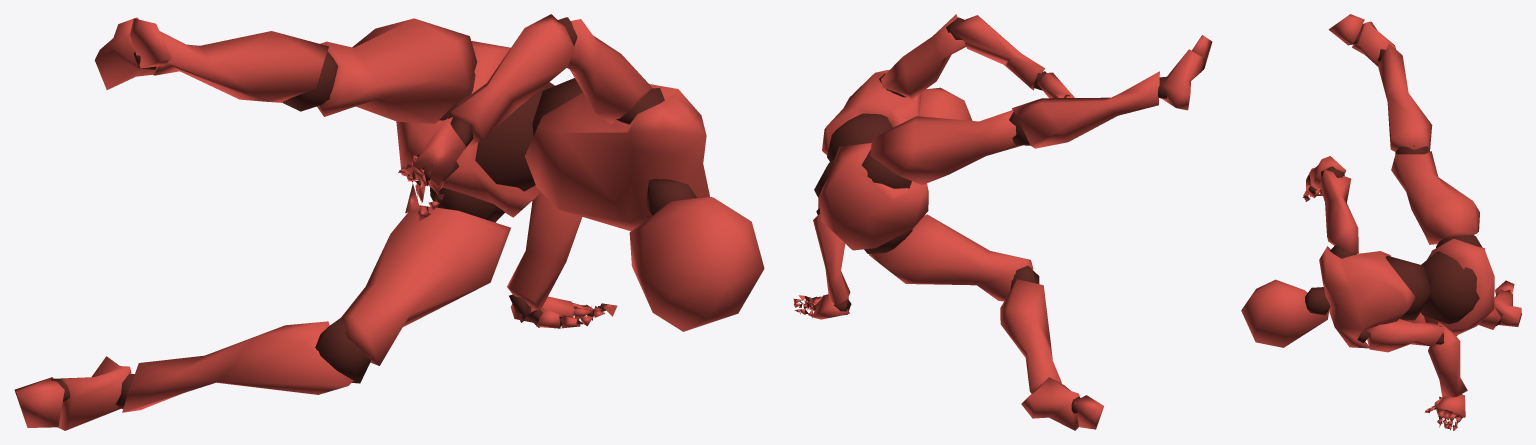
The picture shows the model from 3 angles, left to right: view 1: azimuth 30°, elevation 25°; view 2: azimuth 150°, elevation 25°; view 3: azimuth 270°, elevation 25°; orthographic projection. The views are drawn at different scales.
Visible parts, largest first — view 1: Beta_Surface; view 2: Beta_Surface; view 3: Beta_Surface.
Part boxes in pixels (left/top/right/bottom): Beta_Surface: left=14, top=14, right=764, bottom=430; Beta_Surface: left=793, top=14, right=1212, bottom=430; Beta_Surface: left=1241, top=14, right=1521, bottom=430.
Bounding box in the file's own units: 12.41 × 10.77 × 9.54.
